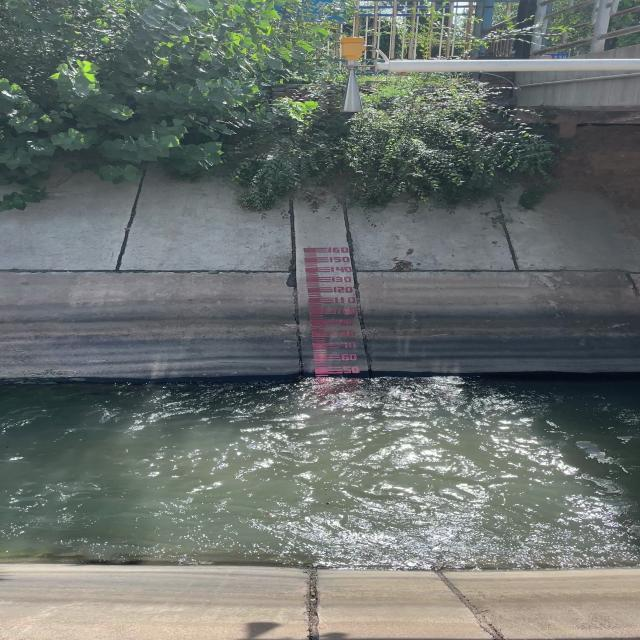ruler: (299, 242, 371, 378)
value: (332, 307, 360, 317), (327, 245, 352, 255), (330, 285, 357, 294), (328, 275, 354, 284), (332, 296, 360, 304), (328, 266, 354, 274), (339, 352, 358, 362), (327, 256, 353, 263), (336, 329, 356, 338), (339, 340, 357, 350), (342, 364, 360, 374), (336, 318, 354, 326)
